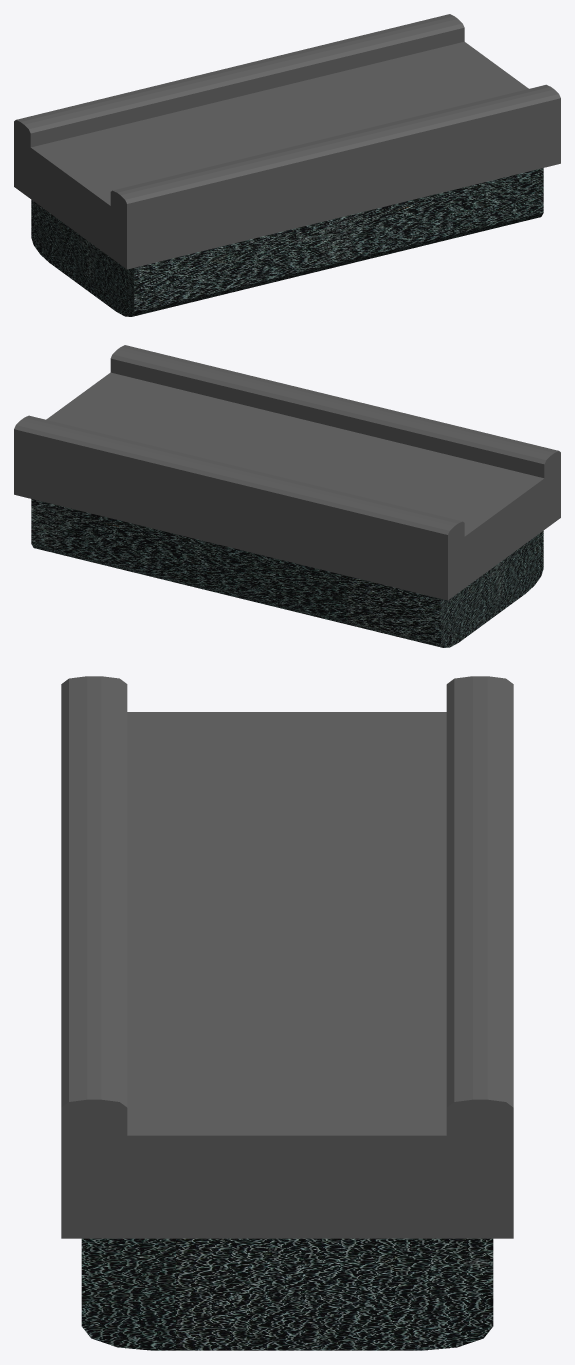
Rendered from brosse.fbx.
3 renders of one model, top to bottom at view 1: azimuth 30°, elevation 25°; view 2: azimuth 150°, elevation 25°; view 3: azimuth 270°, elevation 25°, orthographic. The views are drawn at different scales.
Parts seen in each view (by area): view 1: Cube; view 2: Cube; view 3: Cube.
Boxes of the visible parts, left/top/right/bottom form: Cube: left=14, top=14, right=560, bottom=316; Cube: left=14, top=345, right=560, bottom=647; Cube: left=61, top=676, right=513, bottom=1350.
Bounding box in the file's own units: 0.5775 × 0.1672 × 0.2607.
